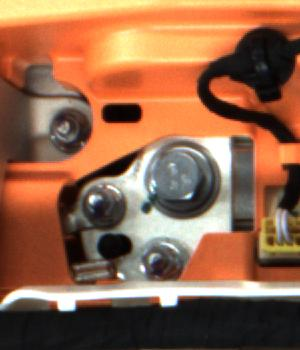nut_b: (135, 138, 234, 221)
screw_s: (38, 111, 84, 155), (81, 187, 122, 220), (143, 240, 182, 273)
